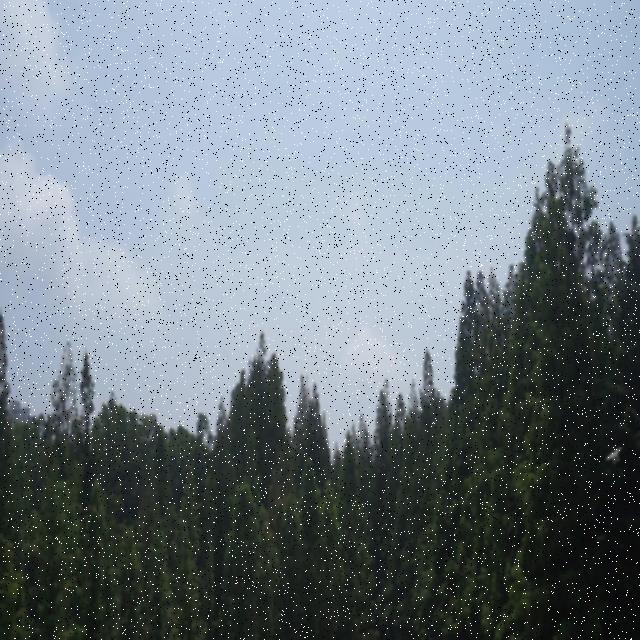UAV: (606, 446, 624, 464)
